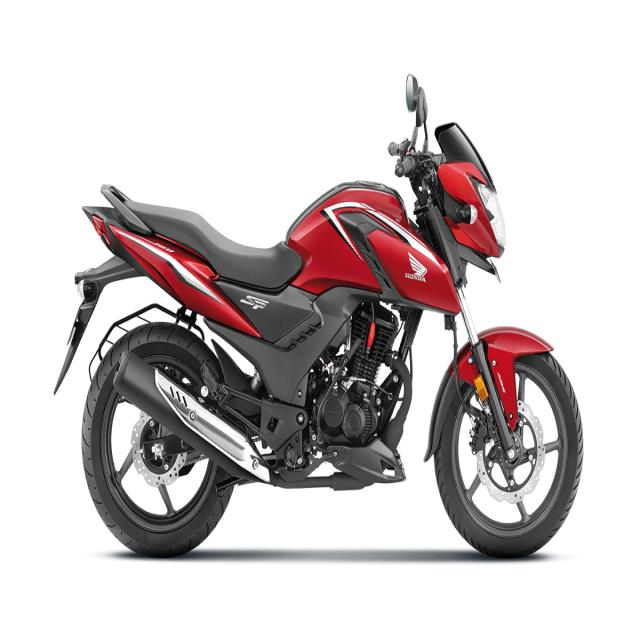Bike: (56, 79, 589, 562)
